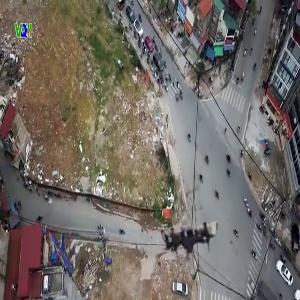drone: (150, 200, 226, 276)
